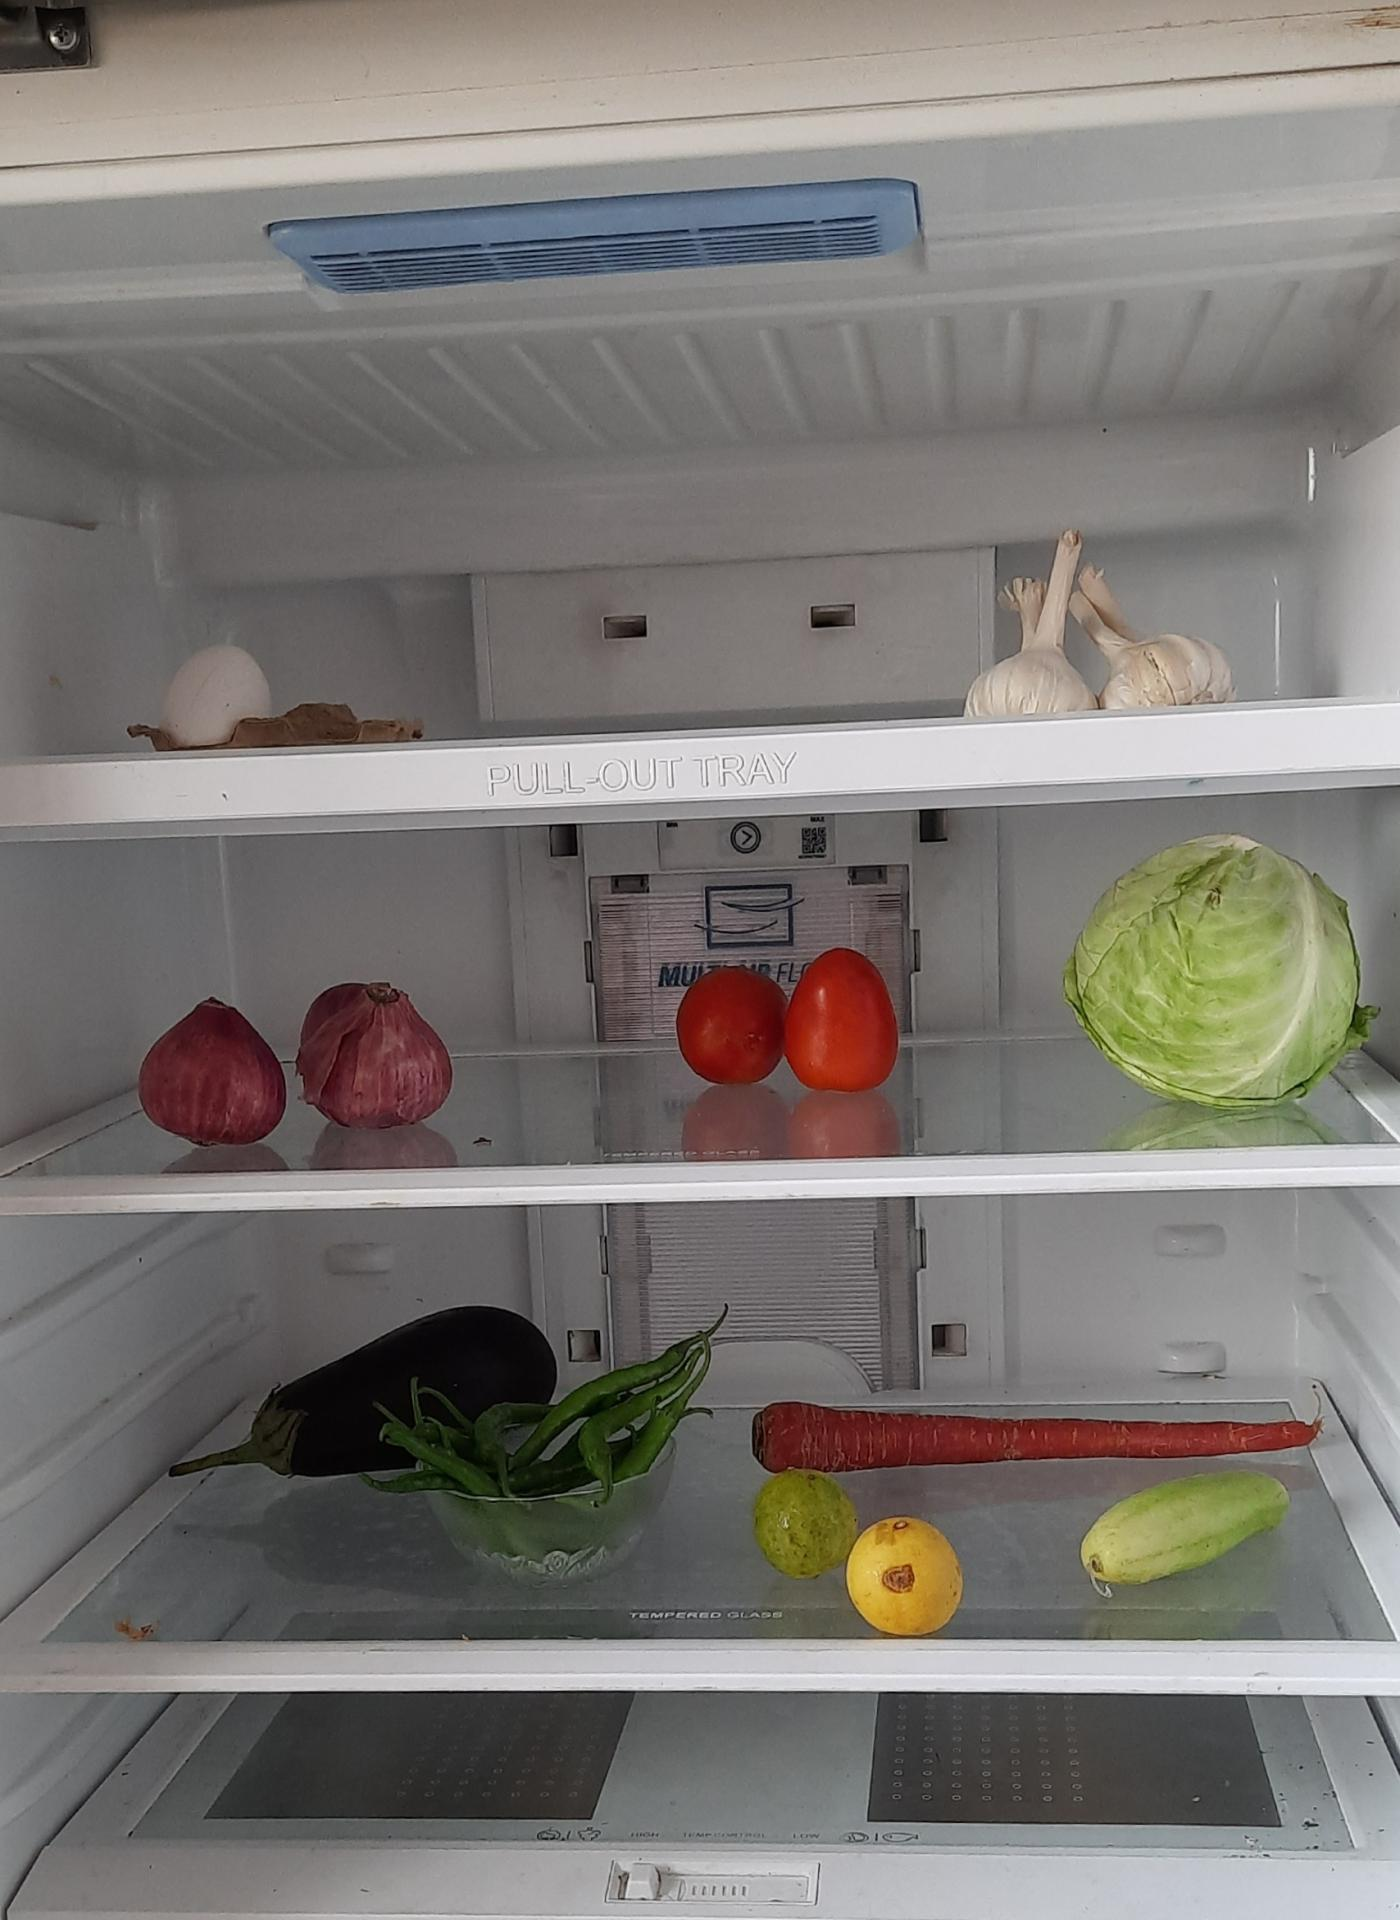brinjal: (179, 1309, 562, 1482)
cabbage: (1059, 836, 1361, 1109)
carrots: (742, 1377, 1334, 1479)
chillies: (397, 1354, 704, 1567)
cucumber: (1078, 1462, 1302, 1586)
egg: (149, 628, 274, 760)
garlic: (965, 544, 1249, 719)
lemon: (745, 1462, 971, 1637)
onion: (130, 967, 465, 1140)
tomato: (677, 945, 896, 1094)
